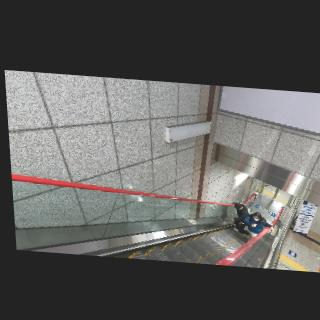normal: (245, 210, 269, 242), (229, 200, 250, 235)
